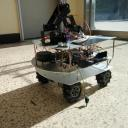cart: (31, 36, 117, 102)
